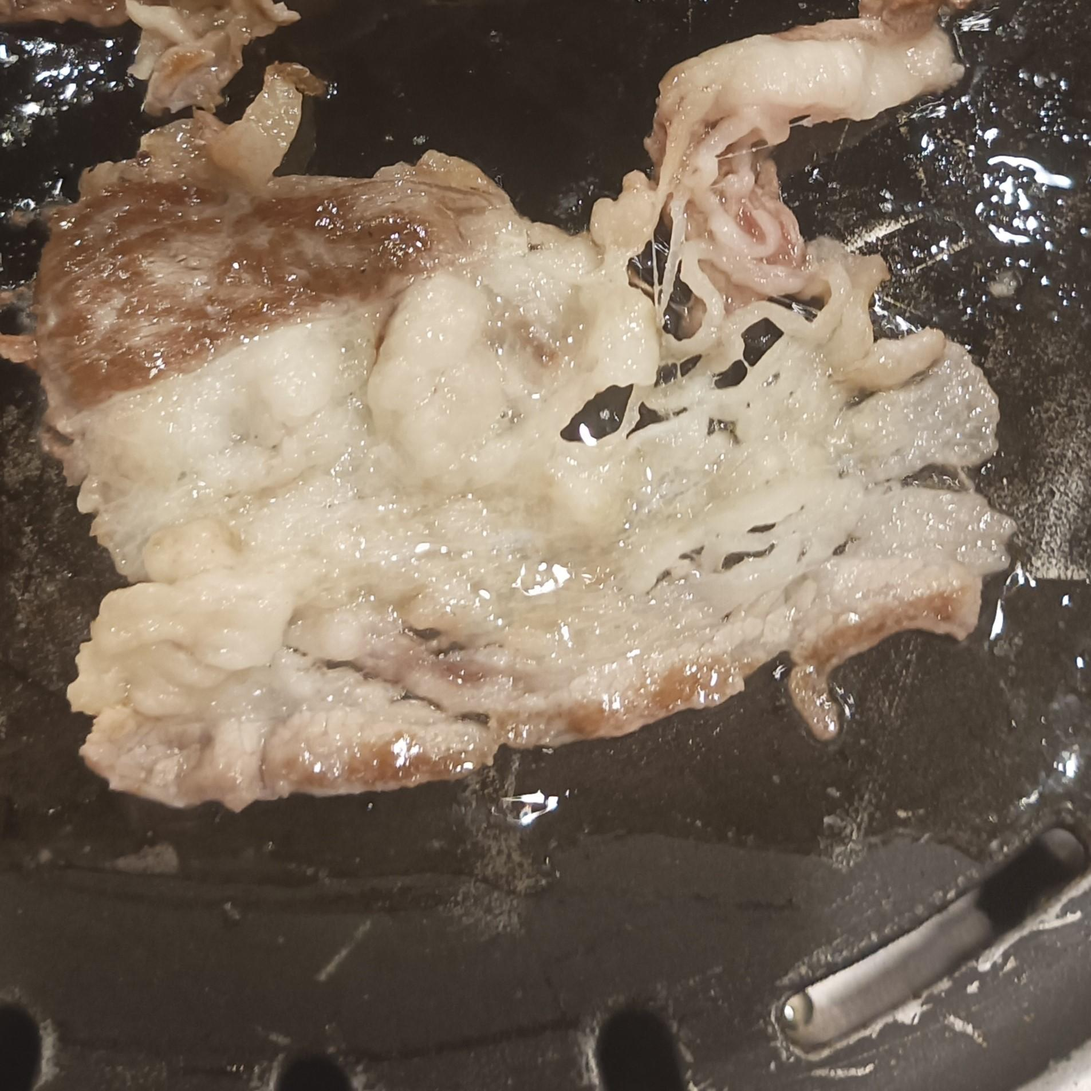Well-Cooked: (25, 21, 1019, 816)
